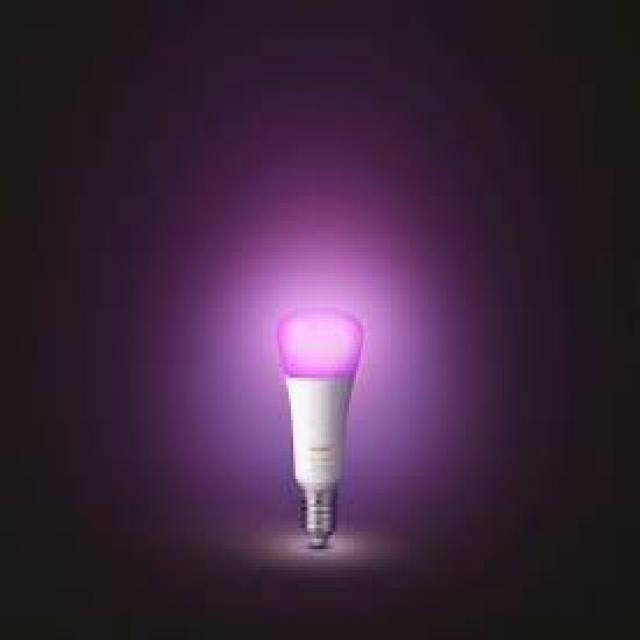light_bulb: (258, 297, 382, 563)
